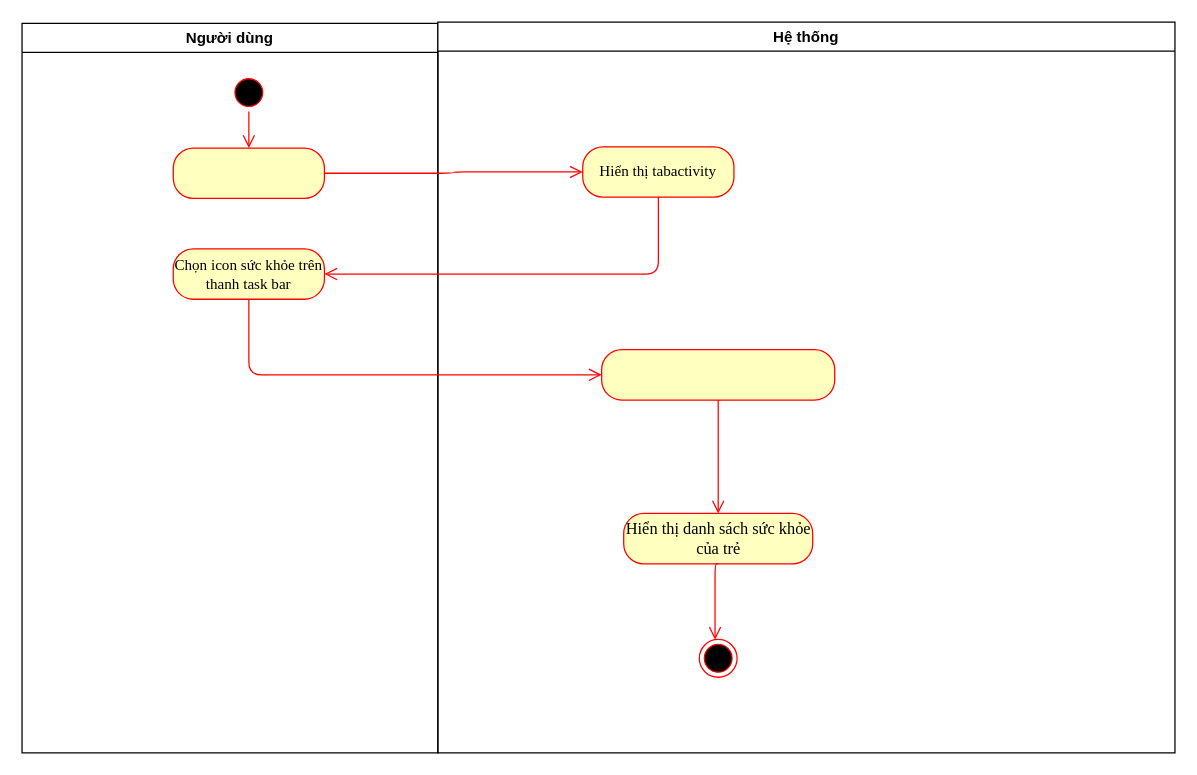
This 1197x775 diagram has some shape labels left out. The centre of each missing label's shape, as x and y in pixels:
Chọn "Trẻ em": (x=248, y=172)
Hiển thị activity "Theo dõi sức khỏe tại gia đình": (x=717, y=374)
